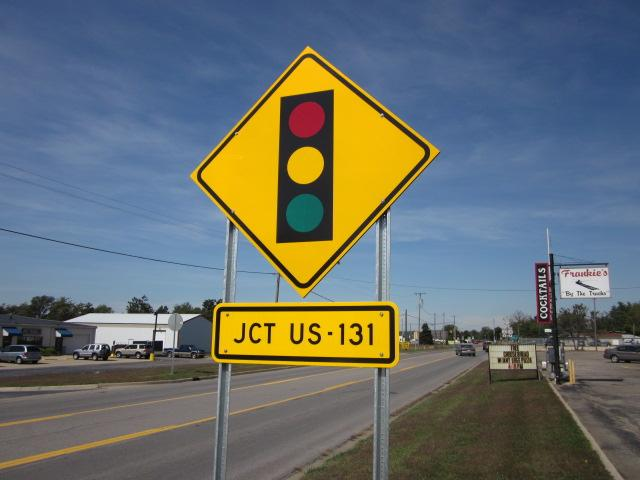warning: (195, 47, 438, 295), (204, 304, 424, 375)
